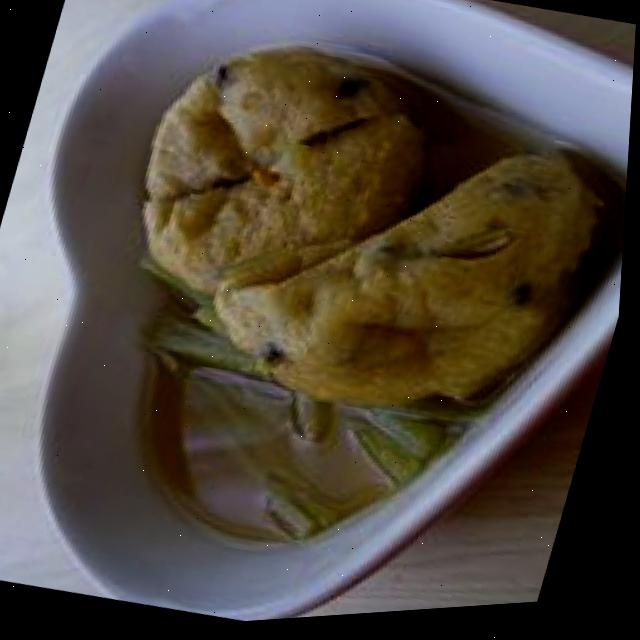熟制海鲜: (108, 0, 640, 453)
